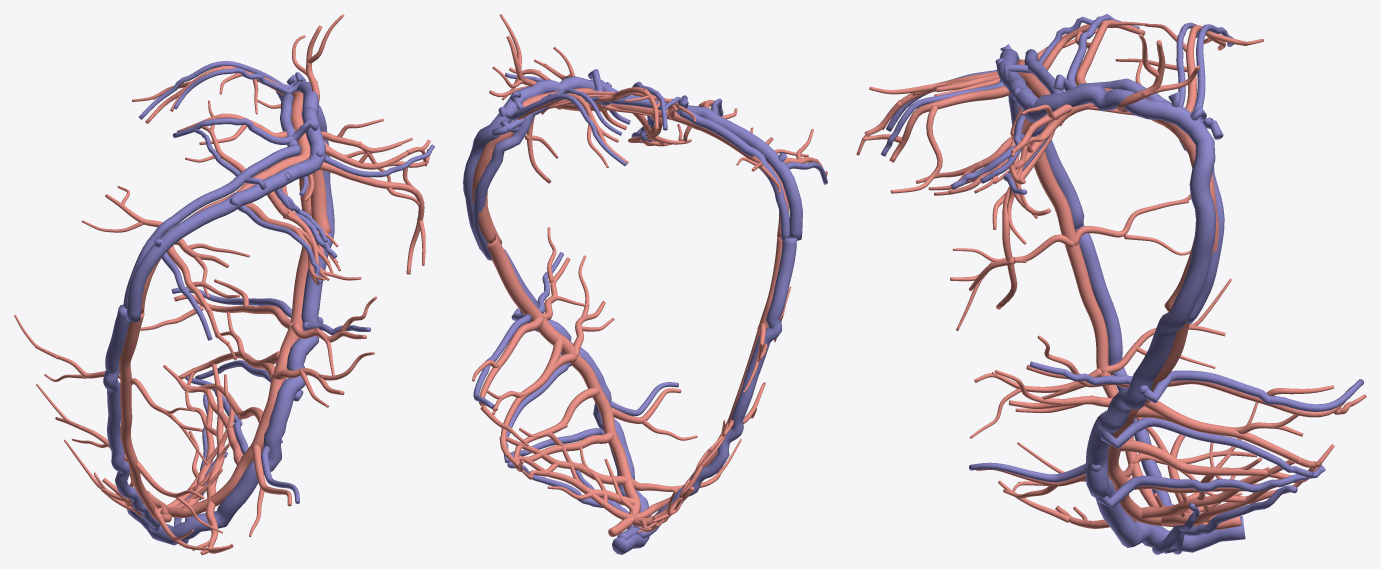
File: vessels_53.glb
3 views of the same model, side by side, from view 1: azimuth 30°, elevation 25°; view 2: azimuth 150°, elevation 25°; view 3: azimuth 270°, elevation 25° (orthographic). The views are drawn at different scales.
Visible parts, largest first — view 1: Renderer Node; view 2: Renderer Node; view 3: Renderer Node.
Boxes of the visible parts, x1,y1,x2,y2 form: Renderer Node: (14, 14, 434, 554); Renderer Node: (463, 14, 827, 554); Renderer Node: (856, 14, 1366, 554).
Bounding box in the file's own units: 88.88 × 122 × 91.31.
